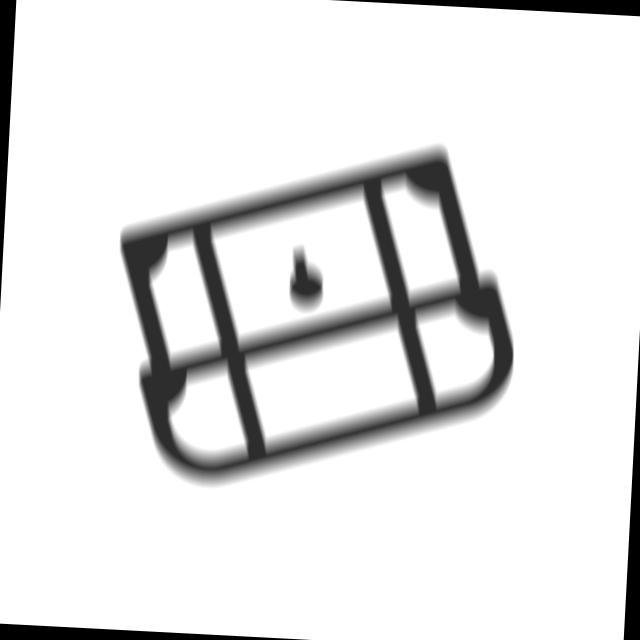treasure_box: (96, 125, 534, 513)
